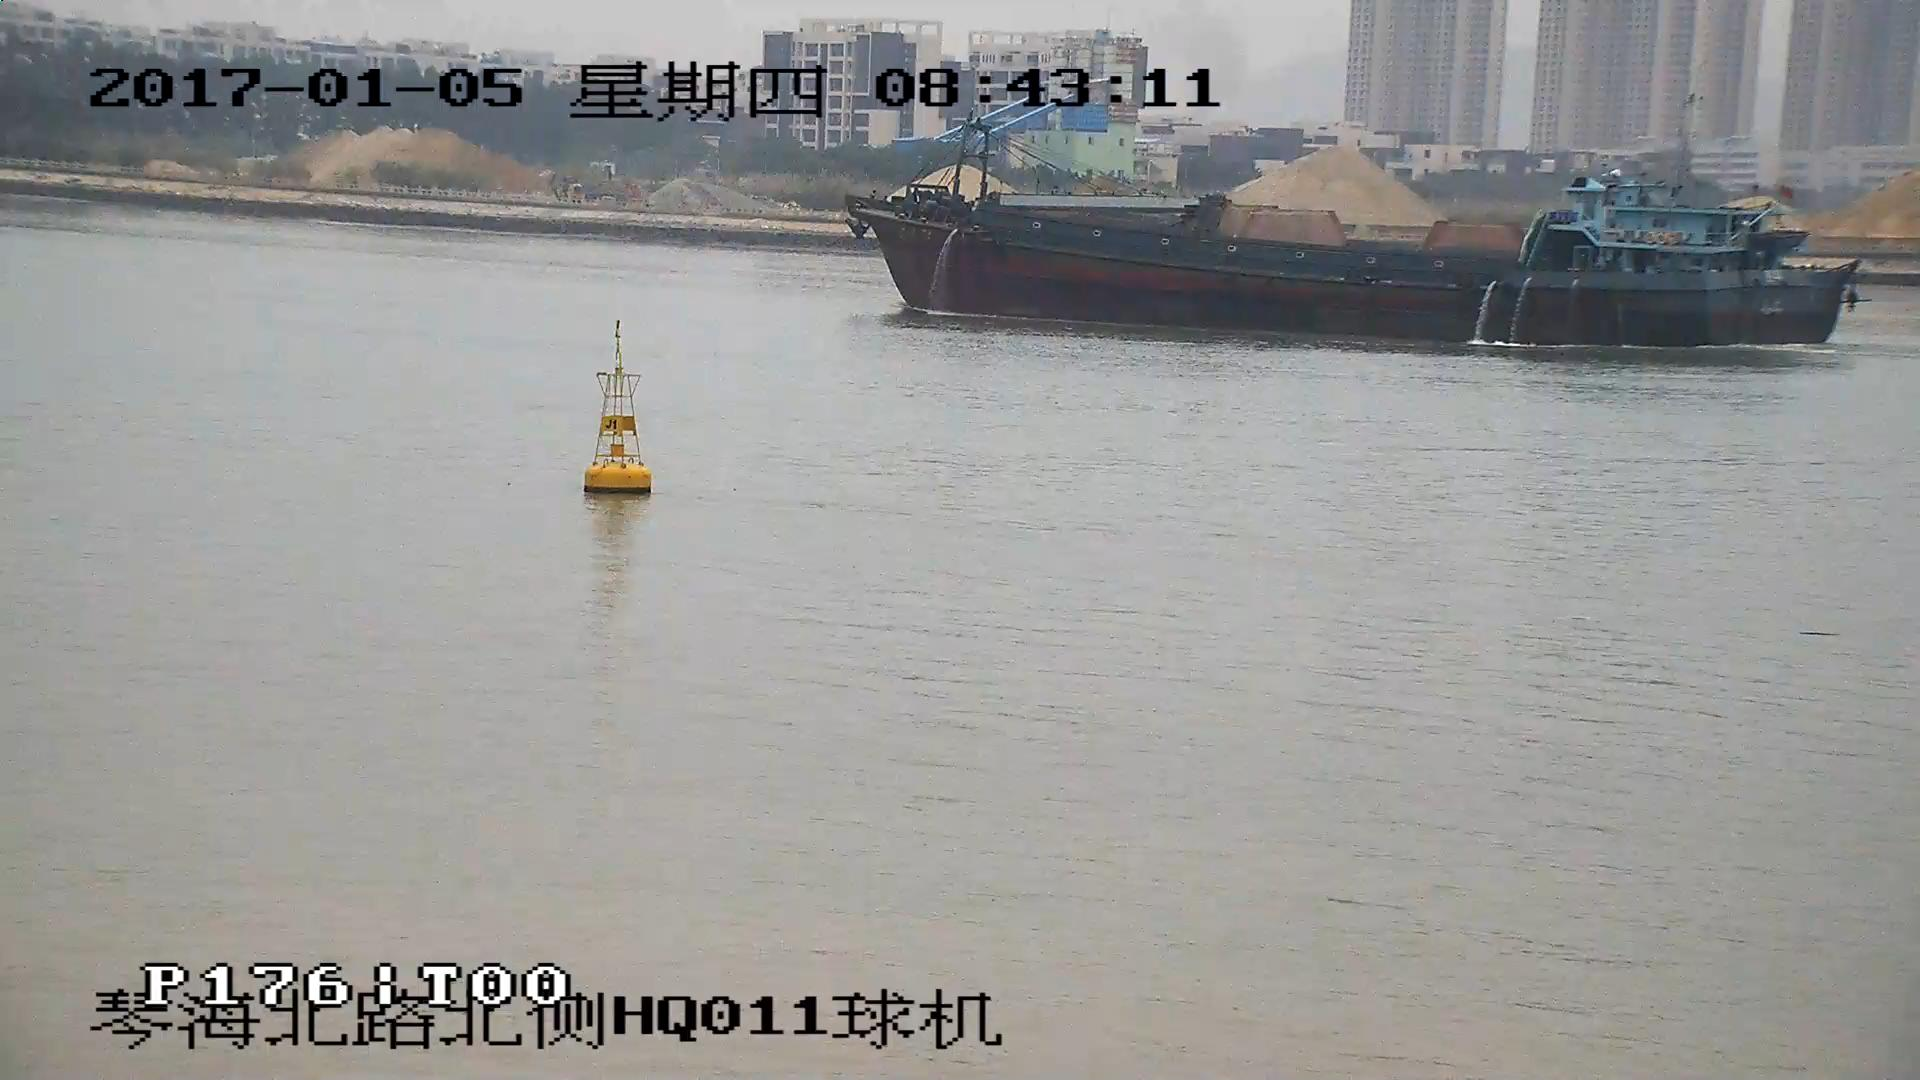bulk cargo carrier: (850, 123, 1866, 346)
